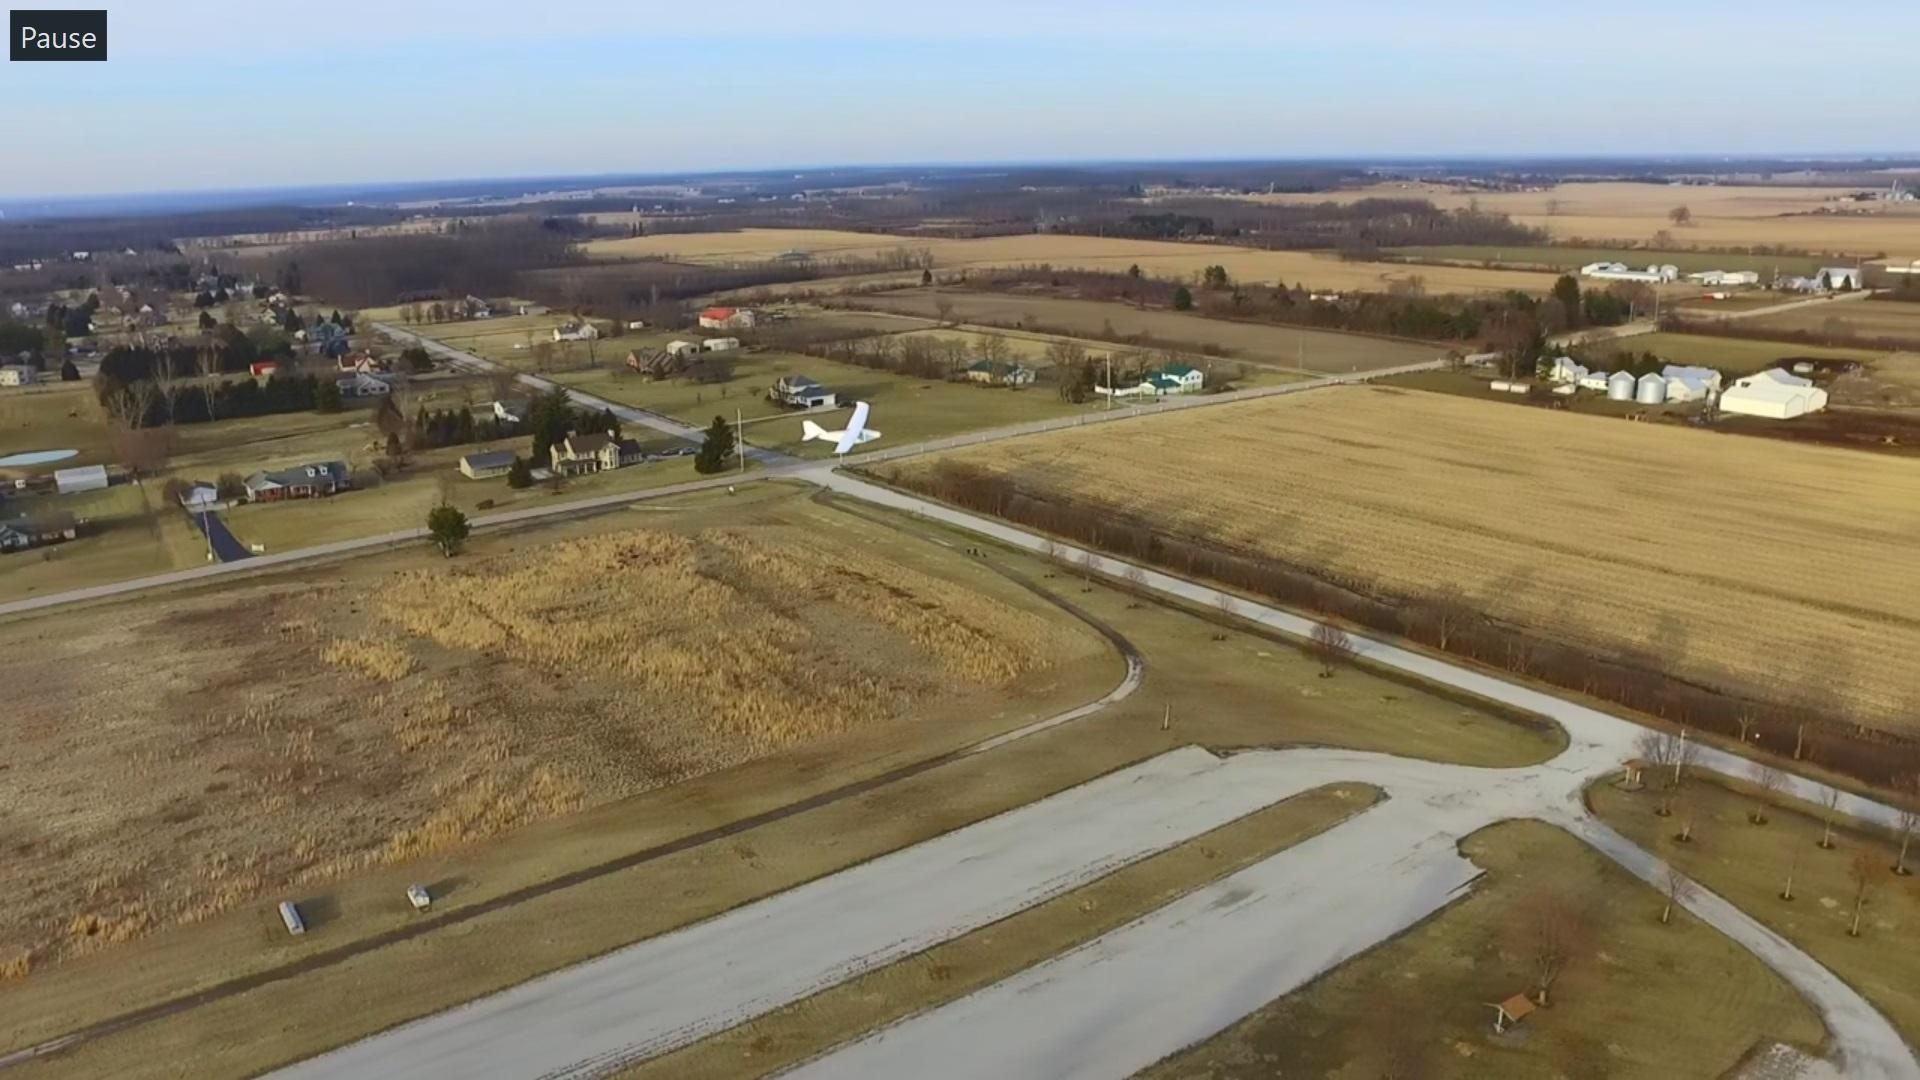Airplane: (799, 398, 887, 462)
